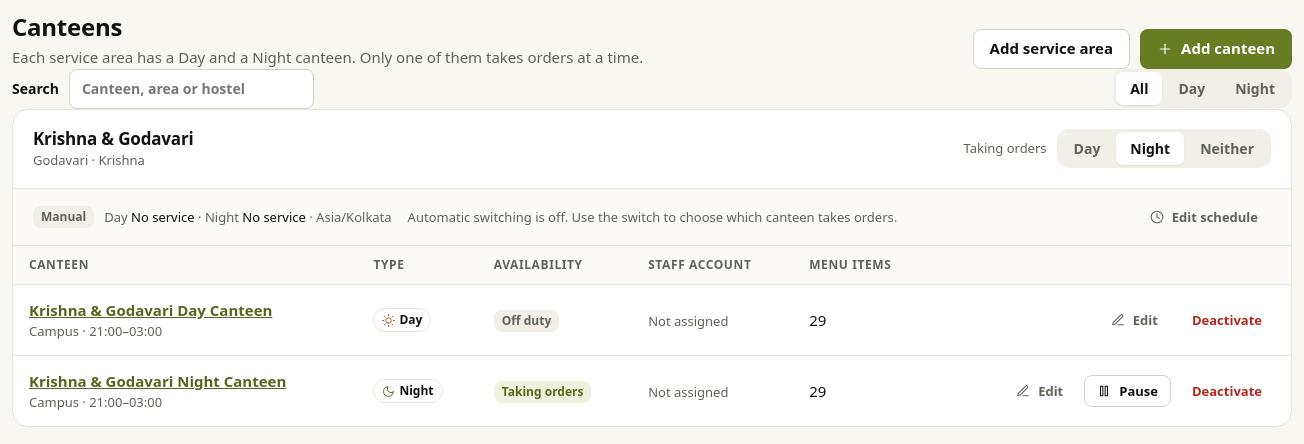
Test: canteens grouped by service area › filters by type and by name
Expected: the link "Krishna & Godavari Night Canteen" is shown, [29,371,286,391]
Click the button "Day" in the row of "Search" at (1192, 88), box [1164,72,1219,105]
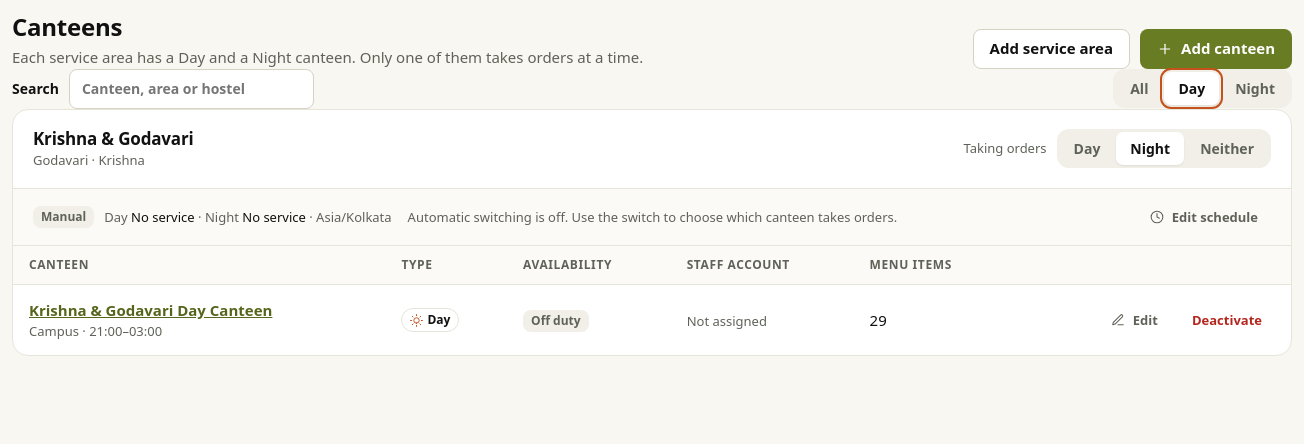
Expected: the link "Krishna & Godavari Day Canteen" is shown, [29,300,272,320]
Expected: the link "Krishna & Godavari Night Canteen" is gone
Type "zzz" into the field named "Search canteens" at (191, 88), box [69,68,314,108]
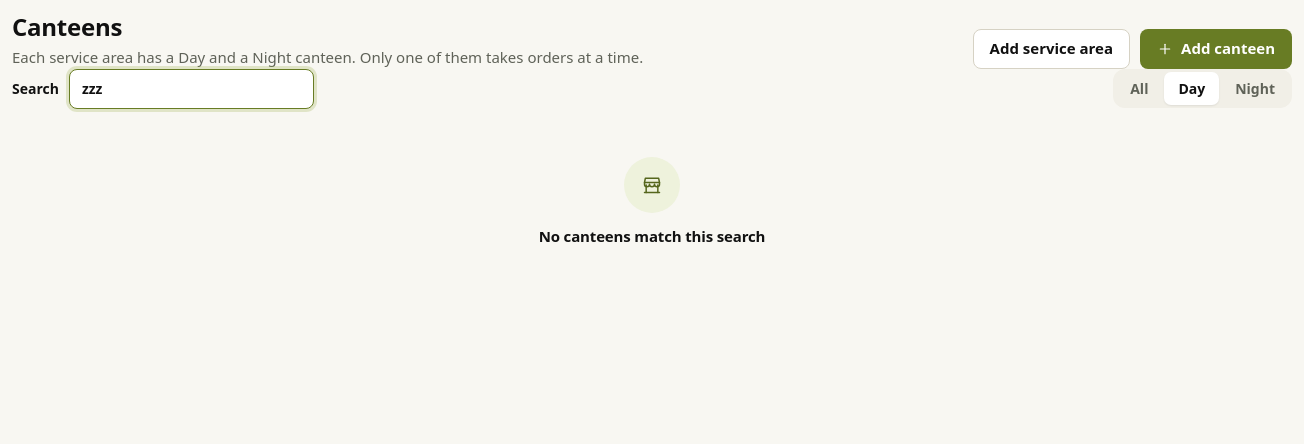
Expected: the heading "No canteens match this search" is shown, [539,226,765,245]
